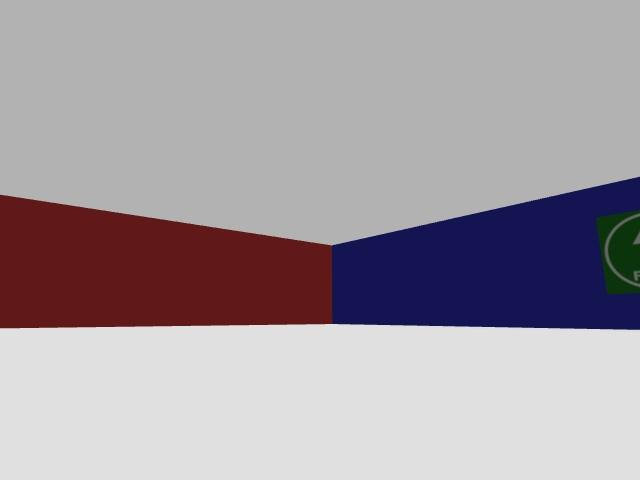fast: (596, 210, 639, 293)
